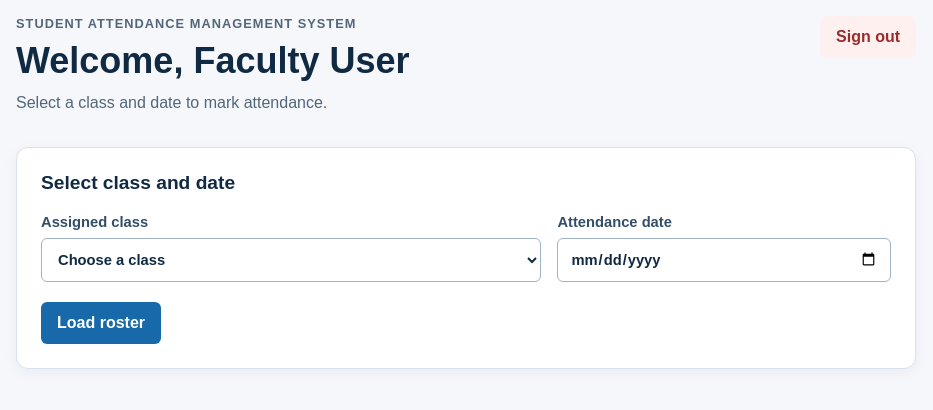
requires class and date selections before requesting a roster
Submit the form, box [41,214,891,344]
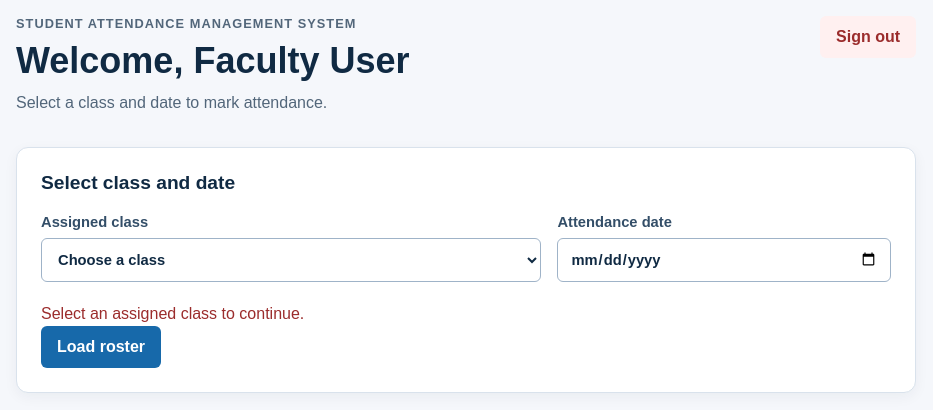
Expected: the text "Select an assigned class to continue" is shown, [41,305,304,322]
Select "CS301 — Database Systems · Section A · 2026-27" in the dropdown with id "assigned-class" at coordinates (291, 260), box [41,238,541,282]
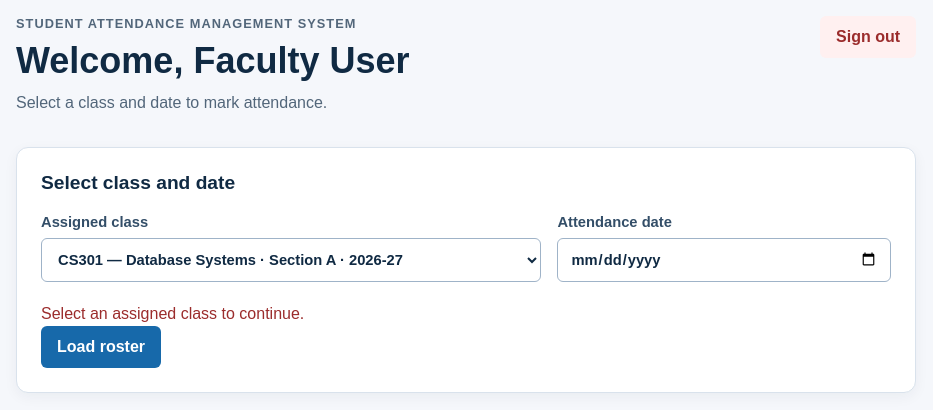
Select "CS301 — Database Systems · Section A · 2026-27" in the dropdown with id "assigned-class" at coordinates (291, 260), box [41,238,541,282]
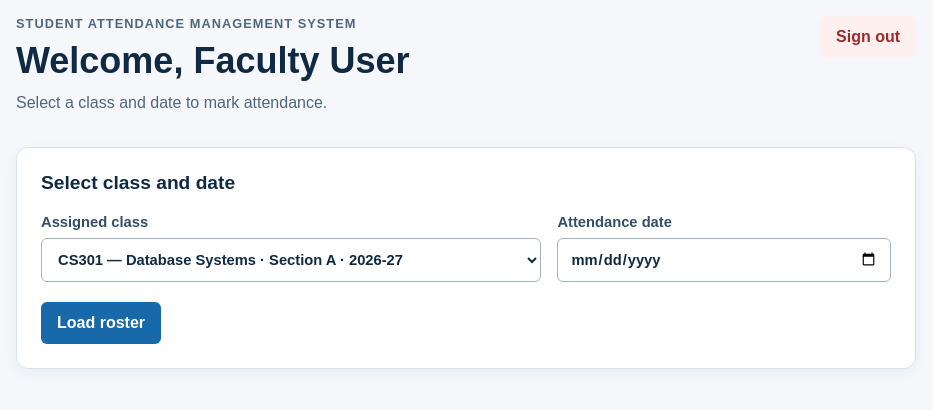
Submit the form, box [41,214,891,344]
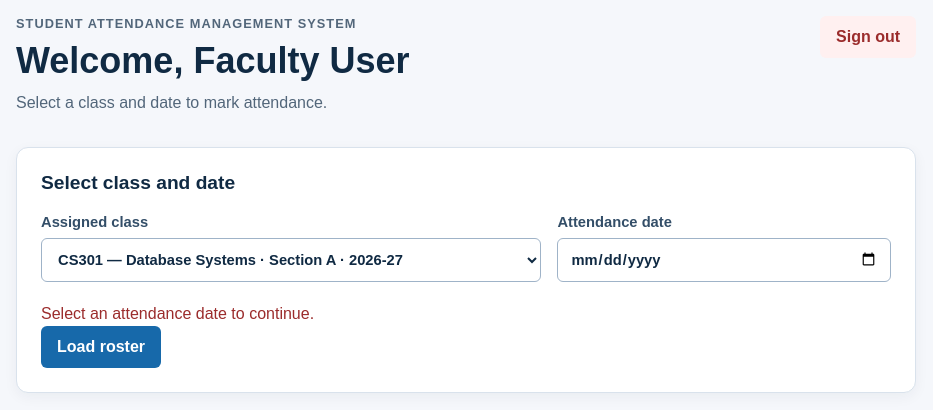
Expected: the text "Select an attendance date to continue" is shown, [41,305,314,322]
